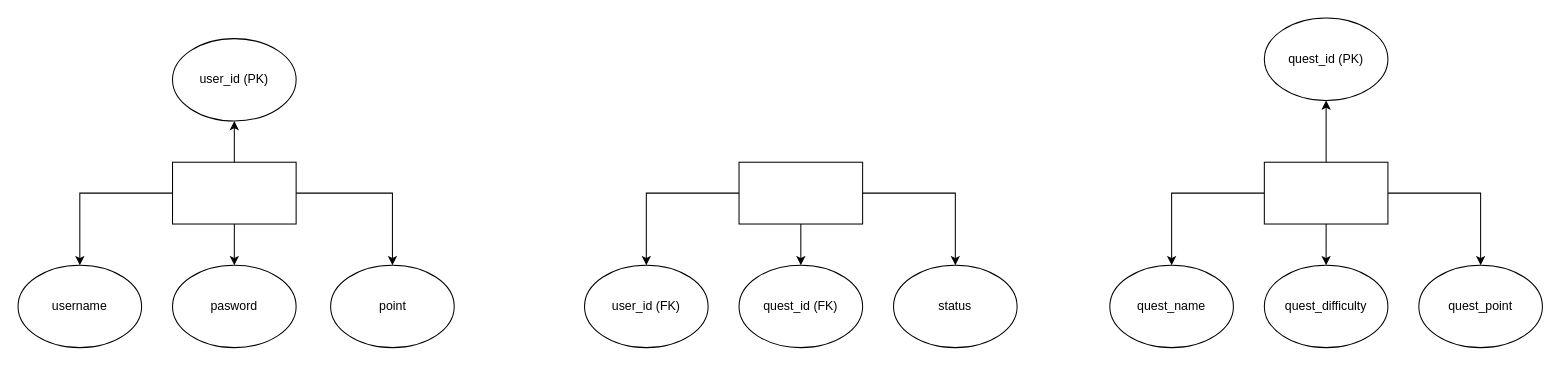
Some shapes in this 1560 by 366 pixel diagram are drawn without their labels. Each missing label, with the centre of its shape:
"quests" goes at point (1325, 192).
"users" goes at point (233, 192).
"users_quests" goes at point (800, 192).
